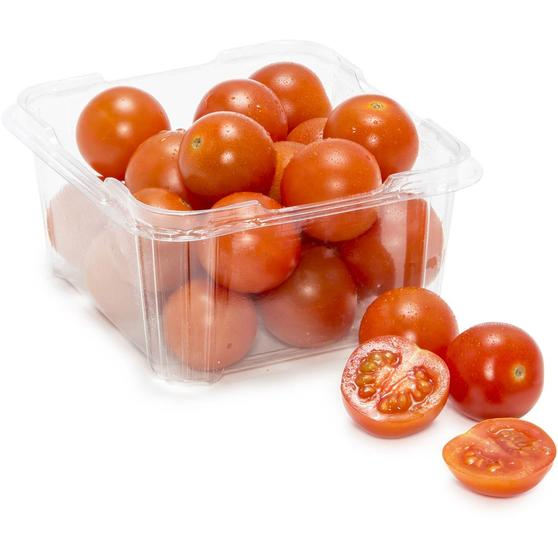tomato: (454, 317, 543, 419), (179, 121, 278, 197)
